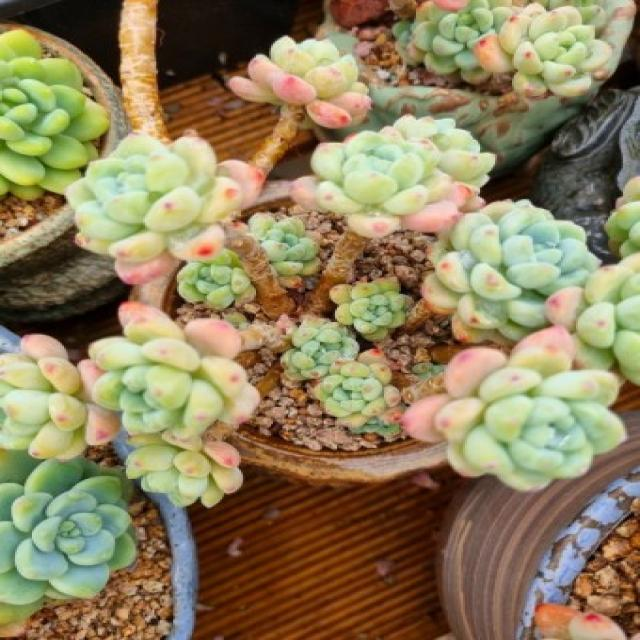LumiRose: (401, 325, 626, 491), (67, 135, 260, 284), (423, 200, 600, 343), (88, 302, 258, 444), (291, 126, 478, 237), (228, 36, 371, 128), (125, 431, 241, 507), (313, 349, 401, 429), (248, 212, 318, 288), (330, 276, 408, 341), (281, 318, 360, 381), (177, 250, 256, 309)
